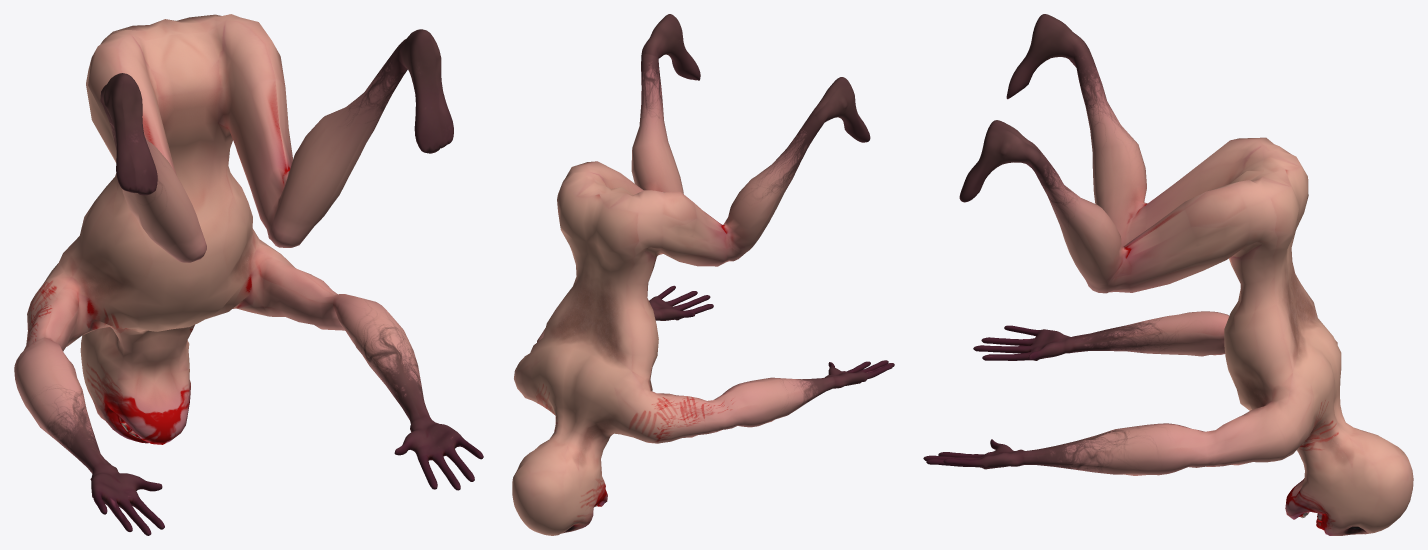
Rendered from Monster.obj.
3 renders of one model, left to right at view 1: azimuth 30°, elevation 25°; view 2: azimuth 150°, elevation 25°; view 3: azimuth 270°, elevation 25°, orthographic. The views are drawn at different scales.
Visible parts, largest first — view 1: Object_9; view 2: Object_9; view 3: Object_9.
Boxes of the visible parts, left/top/right/bottom form: Object_9: left=14, top=14, right=483, bottom=535; Object_9: left=512, top=14, right=894, bottom=535; Object_9: left=923, top=14, right=1413, bottom=535.
Bounding box in the file's own units: 86.77 × 118 × 118.
Materials: 1 (1 with a texture image).
